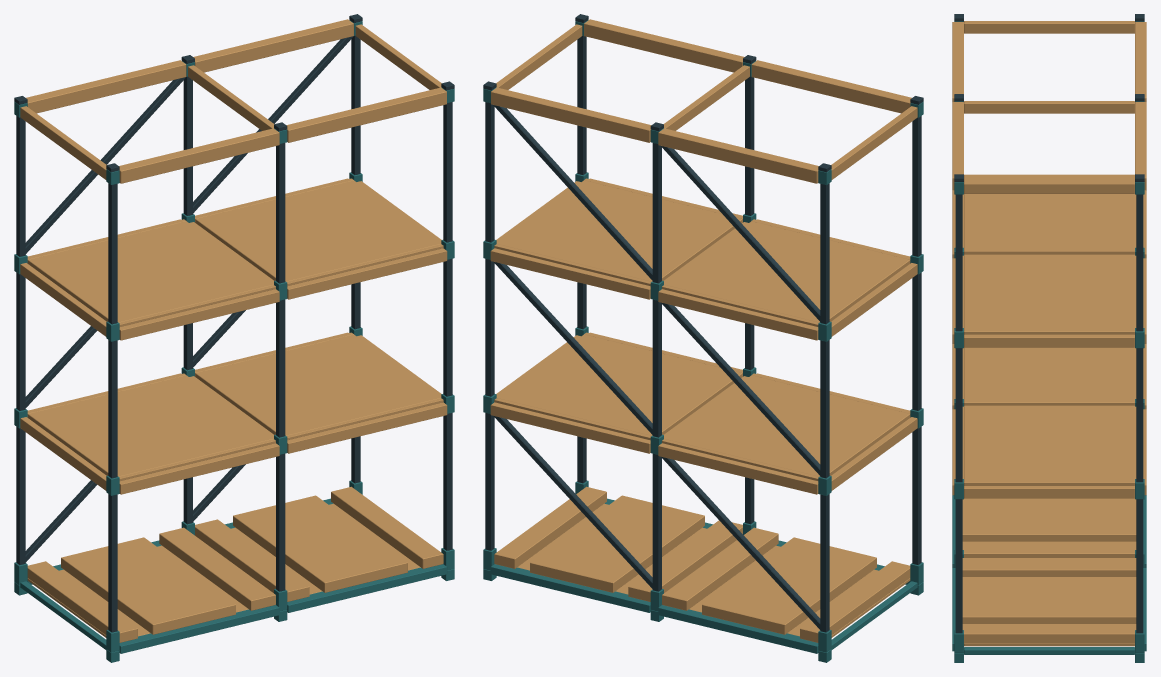
The model's file is rack-standard.glb.
3 views of the same model, side by side, from view 1: azimuth 30°, elevation 25°; view 2: azimuth 150°, elevation 25°; view 3: azimuth 270°, elevation 25° (orthographic).
Visible parts, largest first — view 1: rack-standard; view 2: rack-standard; view 3: rack-standard.
Part boxes in pixels (x1,y1,x2,y2): rack-standard: (14,14,454,662); rack-standard: (483,14,923,662); rack-standard: (952,14,1146,662).
Size of the model in its own units: 2.8 by 3.85 by 1.4.
